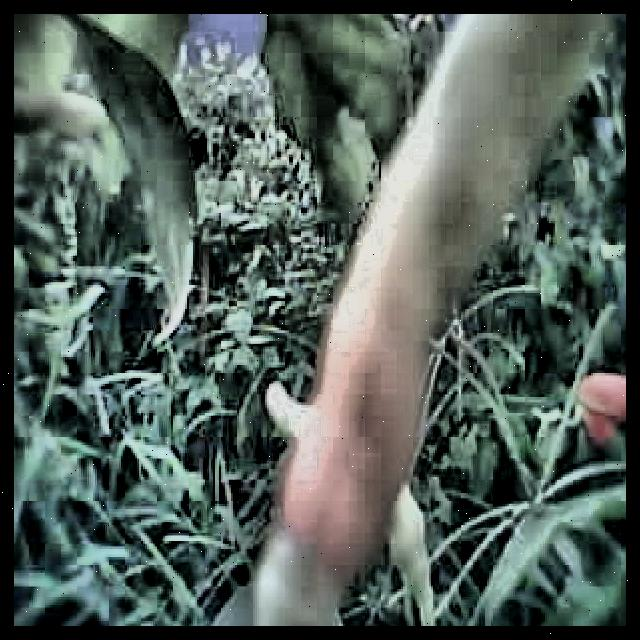Cabai: (267, 14, 501, 567)
